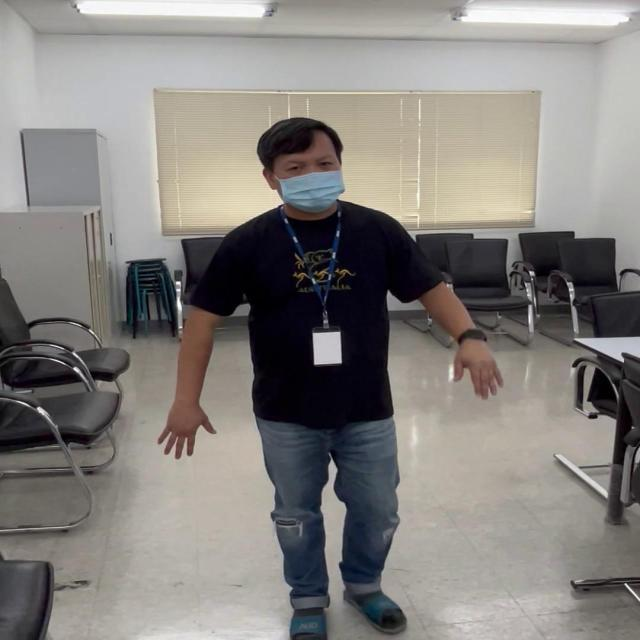bare_hand: (156, 396, 213, 460), (450, 336, 503, 402)
